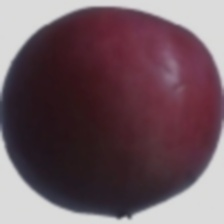apple: (20, 17, 165, 197)
